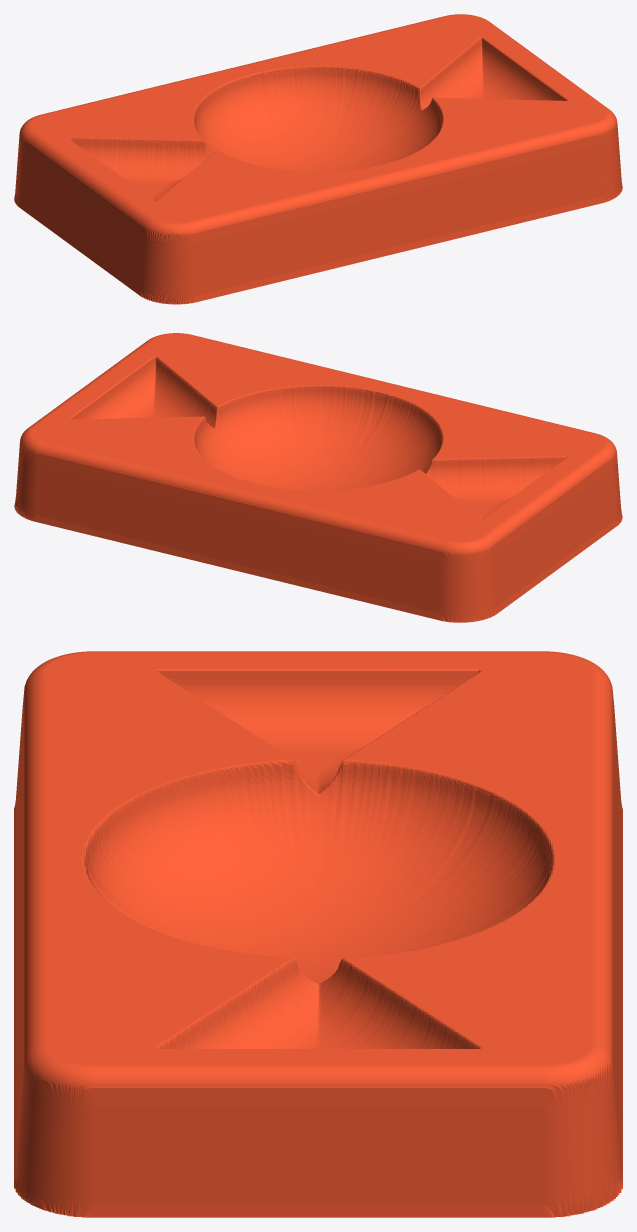
The model's file is mold.glb.
The picture shows the model from 3 angles, top to bottom: view 1: azimuth 30°, elevation 25°; view 2: azimuth 150°, elevation 25°; view 3: azimuth 270°, elevation 25°; orthographic projection. The views are drawn at different scales.
Visible parts, largest first — view 1: geometry_0; view 2: geometry_0; view 3: geometry_0.
Part boxes in pixels (bbox=[...]): geometry_0: bbox=[14, 14, 622, 304]; geometry_0: bbox=[14, 333, 622, 622]; geometry_0: bbox=[14, 651, 622, 1217].
Size of the model in its own units: 0.1178 by 0.0175 by 0.0692.
